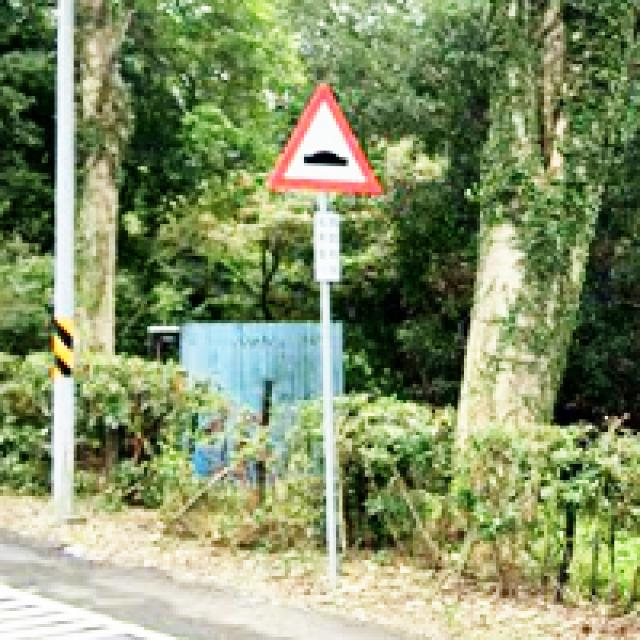hump: (267, 84, 381, 190)
